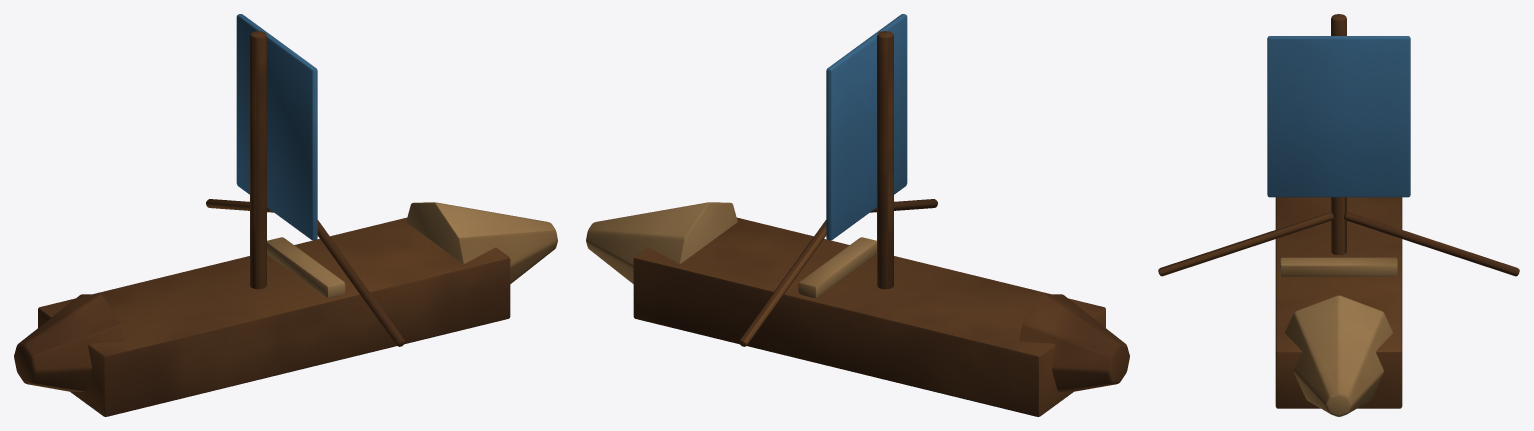
File: unit_river_boat.fbx
The picture shows the model from 3 angles, left to right: view 1: azimuth 30°, elevation 25°; view 2: azimuth 150°, elevation 25°; view 3: azimuth 270°, elevation 25°; orthographic projection. The views are drawn at different scales.
Visible parts, largest first — view 1: unit_river_boat; view 2: unit_river_boat; view 3: unit_river_boat.
Part boxes in pixels (x1,y1,x2,y2): unit_river_boat: [14, 14, 557, 416]; unit_river_boat: [586, 14, 1129, 416]; unit_river_boat: [1158, 14, 1519, 416].
Size of the model in its own units: 3.38 by 2.04 by 2.14.
